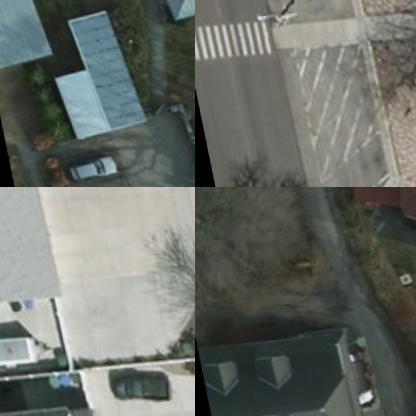car: (101, 360, 170, 404), (60, 151, 119, 183)
